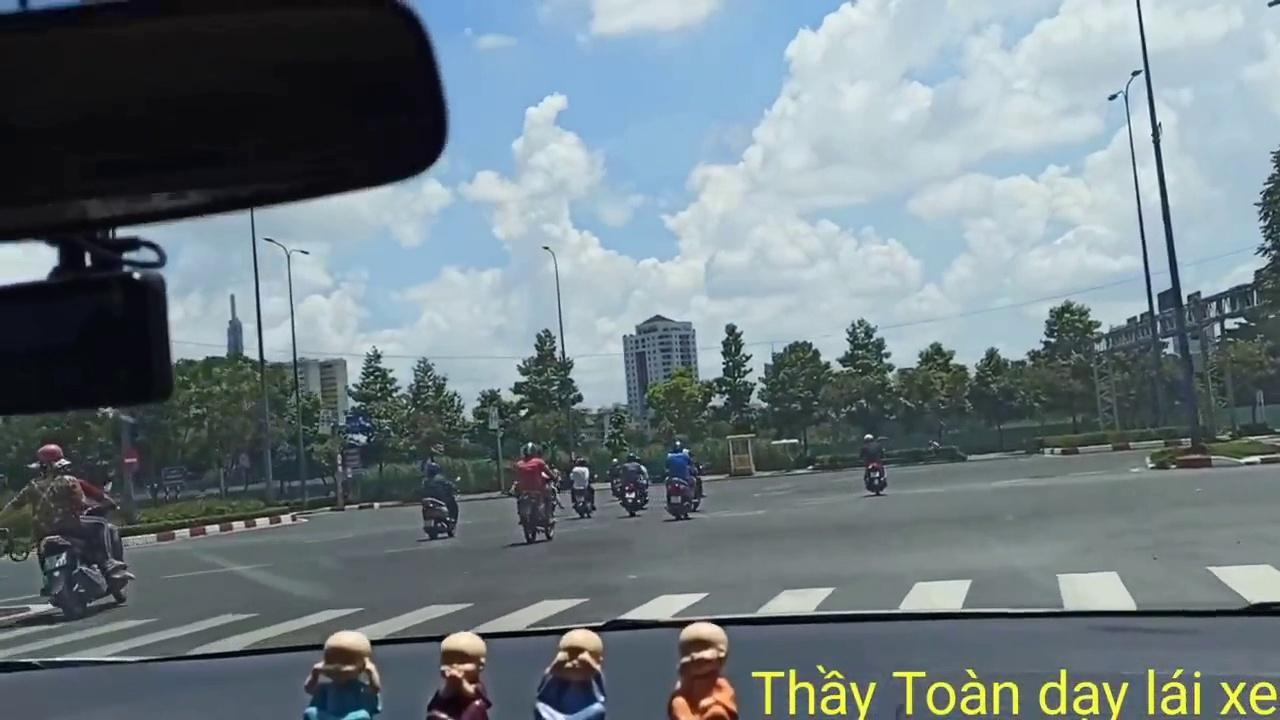Cấm đi ngược chiều: (120, 445, 142, 476)
